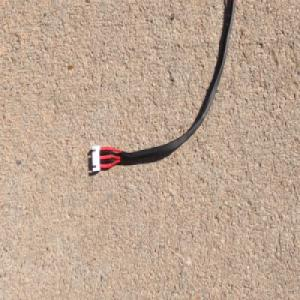Wire: (89, 0, 239, 174)
